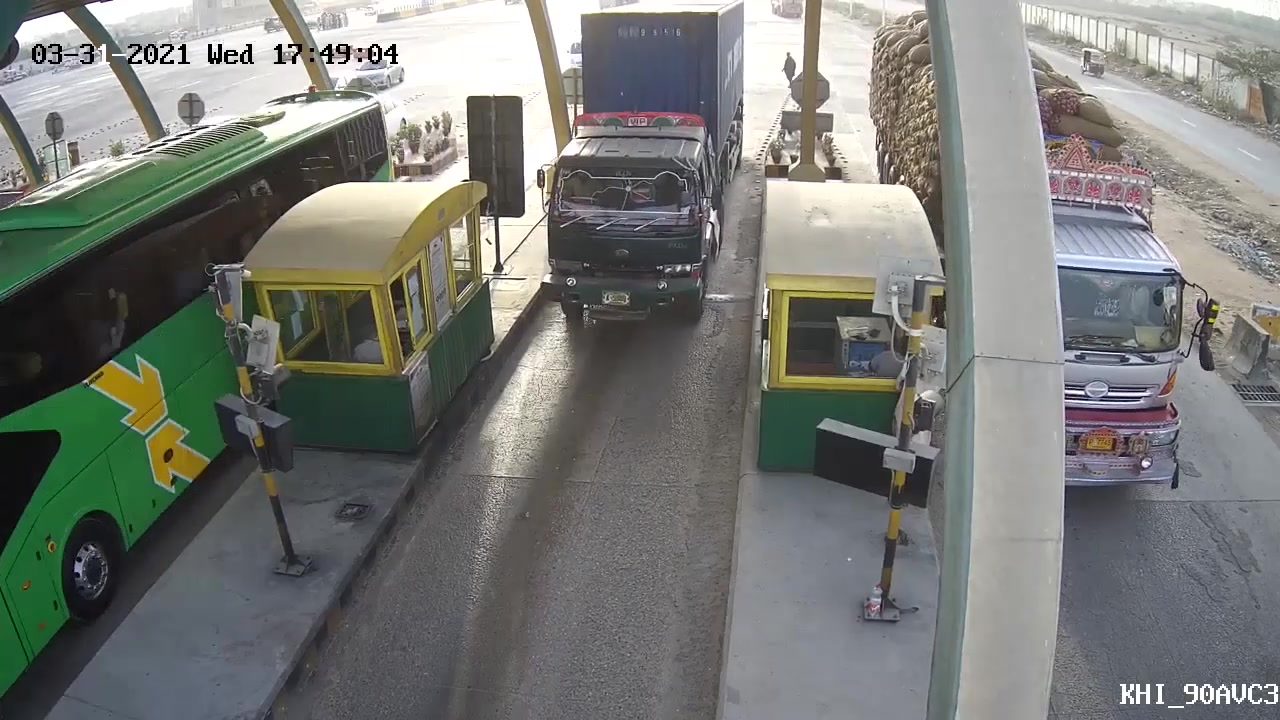F5: (535, 8, 743, 340)
